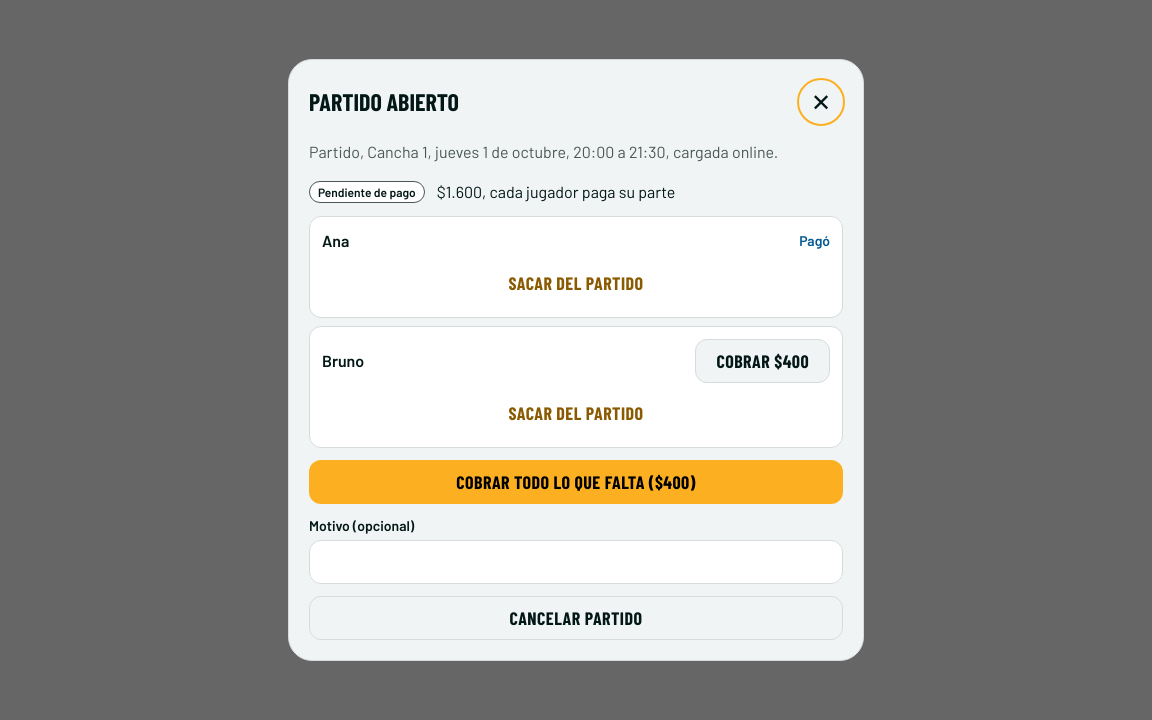
OccupancyDetailSheet › shows a match by player, with the same charges, taking a player out and cancelling it
Click the button with aria-label "Cobrar $400 a Bruno" at (763, 361), box [695,339,830,383]
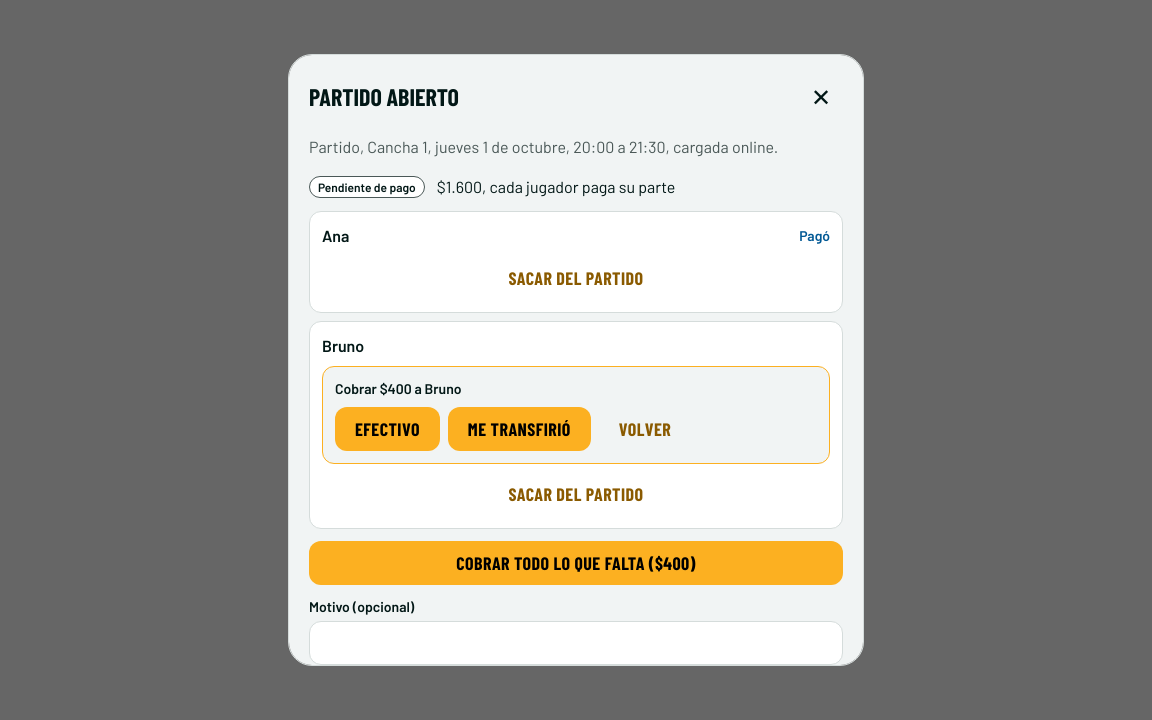
Click the button "Me transfirió" at (519, 429), box [448,407,591,451]
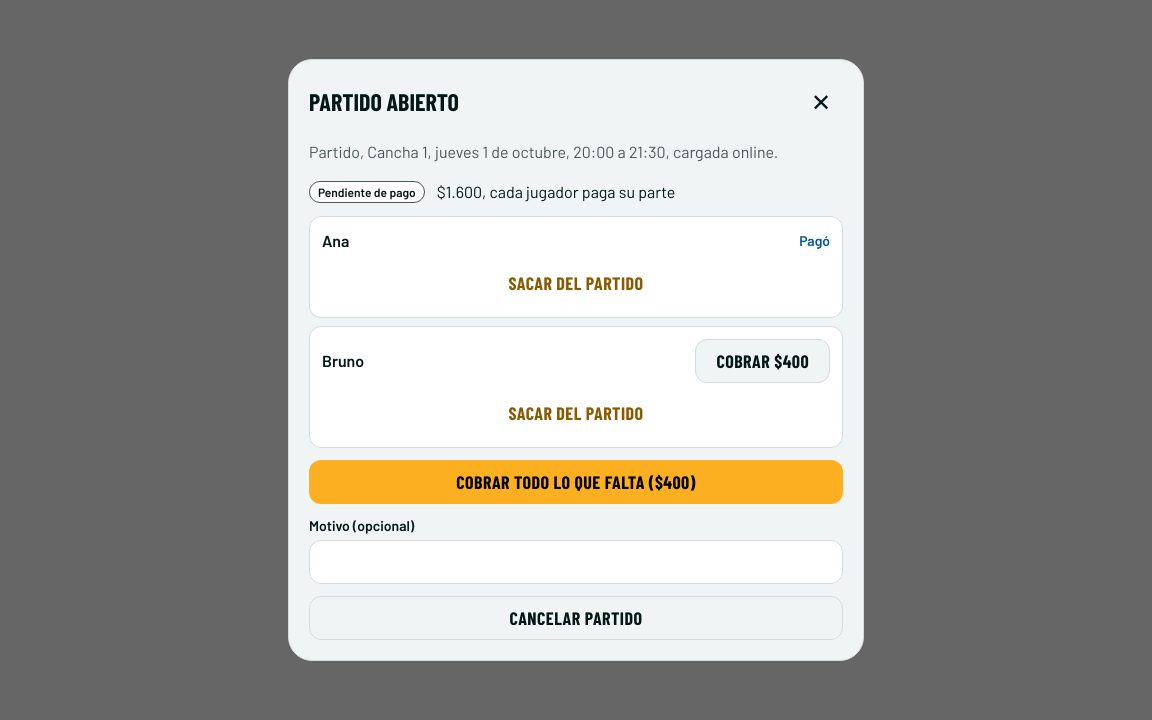
Check: the number of buttons "Sacar del partido" is 2, box [322,261,830,305]; [322,391,830,435]
Check: the button "Cancelar partido" is shown, box [309,596,843,640]
